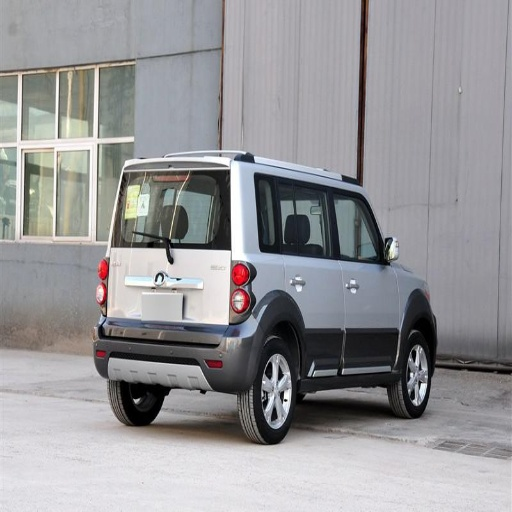back_bumper: (94, 316, 259, 387)
back_right_door: (274, 177, 345, 376)
trunk: (107, 236, 278, 346)
